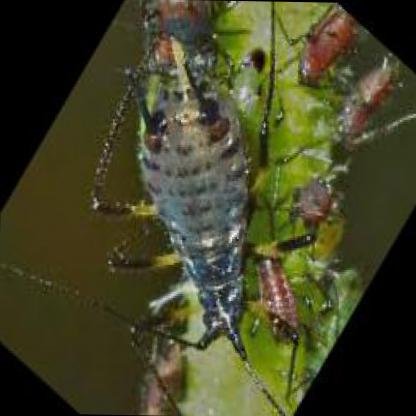uroleucon compositae: (95, 35, 310, 360)
